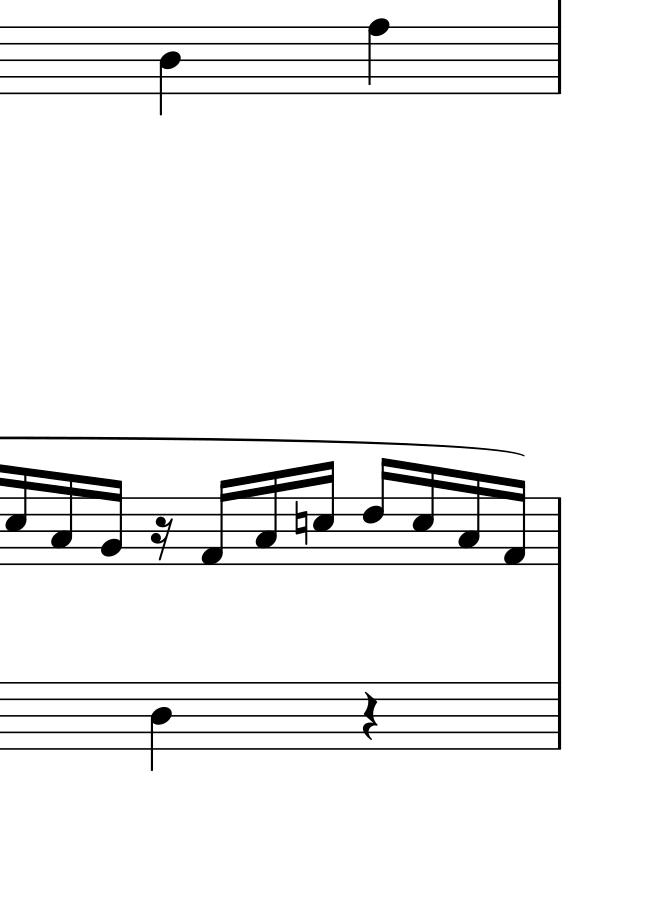16_1: (199, 475, 232, 568), (504, 477, 527, 569)
16_2: (98, 476, 124, 567)
16_3: (48, 470, 75, 566), (456, 468, 481, 567)
16_5: (408, 460, 436, 566), (3, 464, 29, 568), (312, 458, 336, 567)
16_6: (362, 455, 395, 566)
4_4: (149, 680, 173, 771), (159, 25, 182, 118)
4_8: (366, 16, 390, 95)
8_3: (253, 468, 279, 568)
Natural: (293, 499, 310, 548)
Rests16: (149, 514, 175, 561)
Rests4: (360, 690, 380, 742)
Single_barline: (551, 683, 567, 748), (551, 28, 567, 92), (552, 498, 567, 565)
